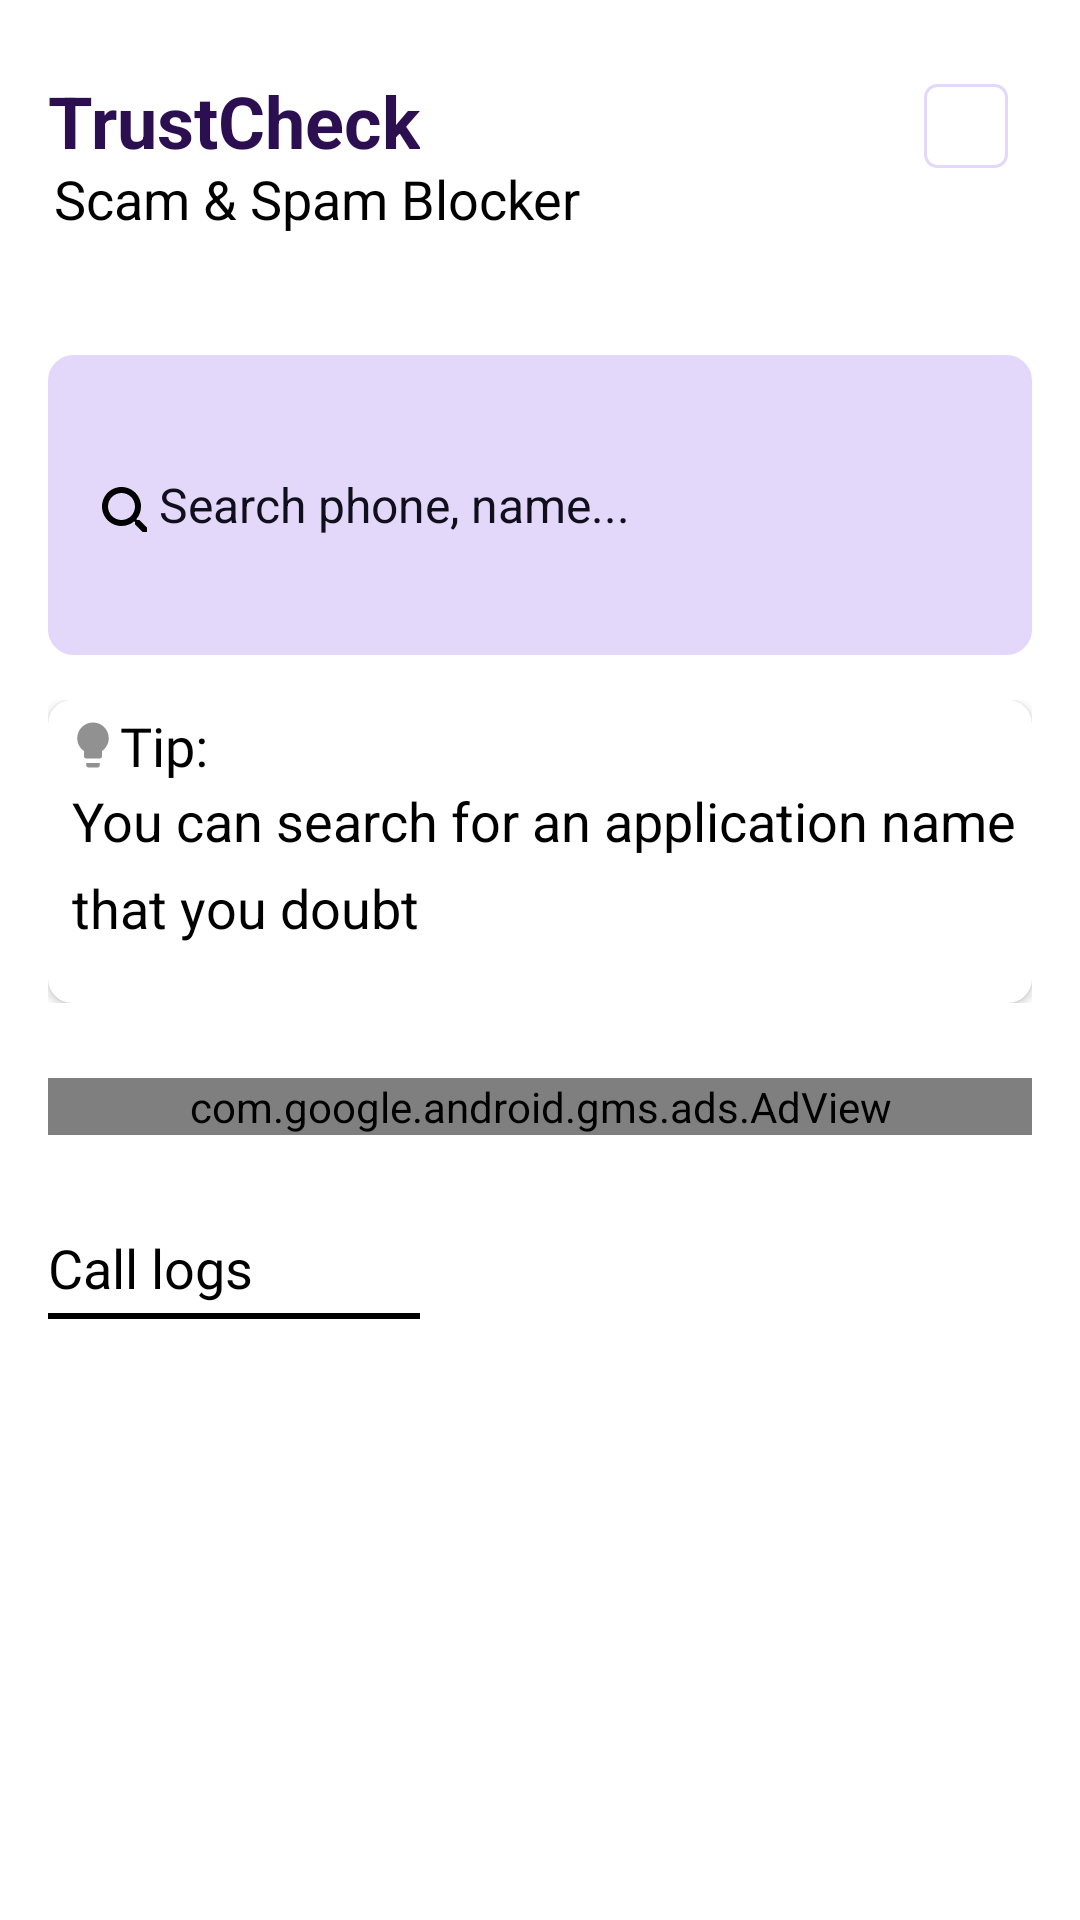

Icons on this 1080w x 1920h Android screen, each with its box as (x1, y1, x2, y2):
idea: (77, 722, 109, 768)
